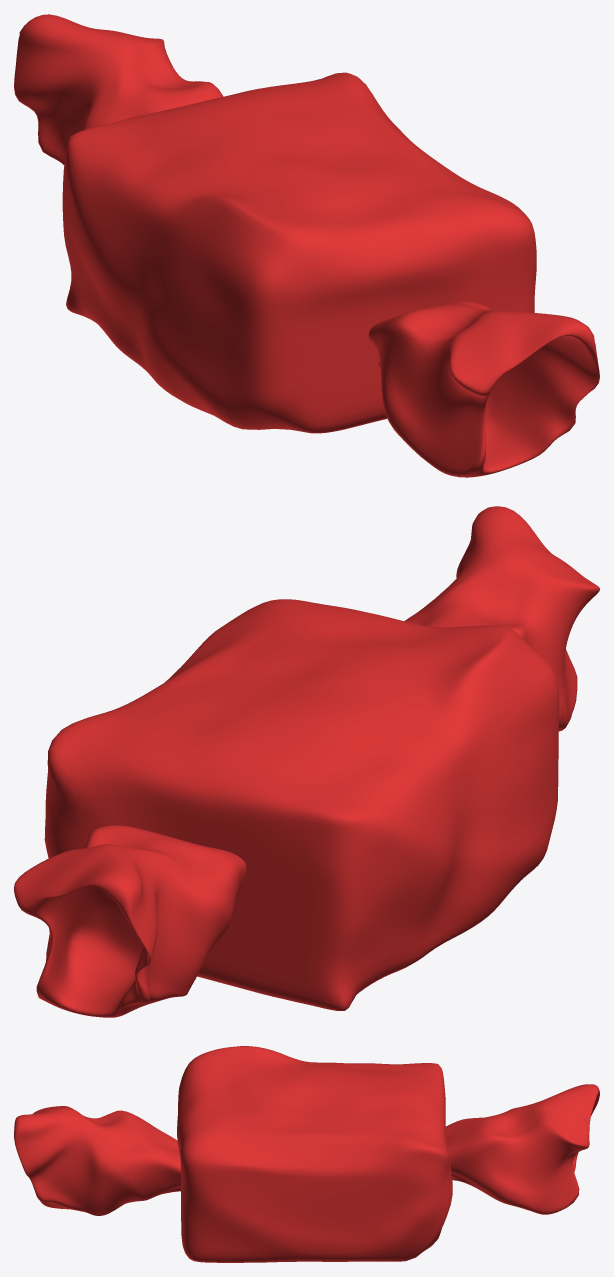
The model's file is Candy.fbx.
3 renders of one model, top to bottom at view 1: azimuth 30°, elevation 25°; view 2: azimuth 150°, elevation 25°; view 3: azimuth 270°, elevation 25°, orthographic. The views are drawn at different scales.
Parts seen in each view (by area): view 1: Group56987; view 2: Group56987; view 3: Group56987.
Part boxes in pixels (left/top/right/bottom): Group56987: left=14, top=14, right=599, bottom=477; Group56987: left=14, top=506, right=599, bottom=1017; Group56987: left=14, top=1046, right=599, bottom=1262.
Size of the model in its own units: 1.5 by 1 by 3.7.
